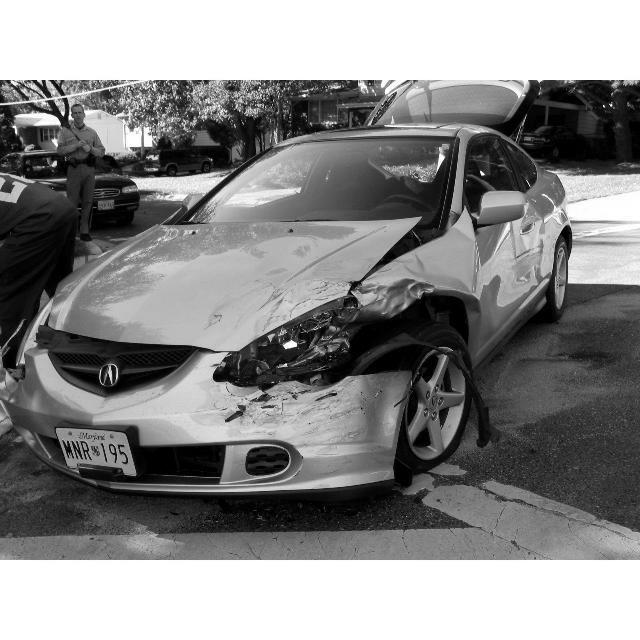Headlight-damage: (227, 309, 385, 405)
front-bumper-dent: (184, 407, 406, 480)
